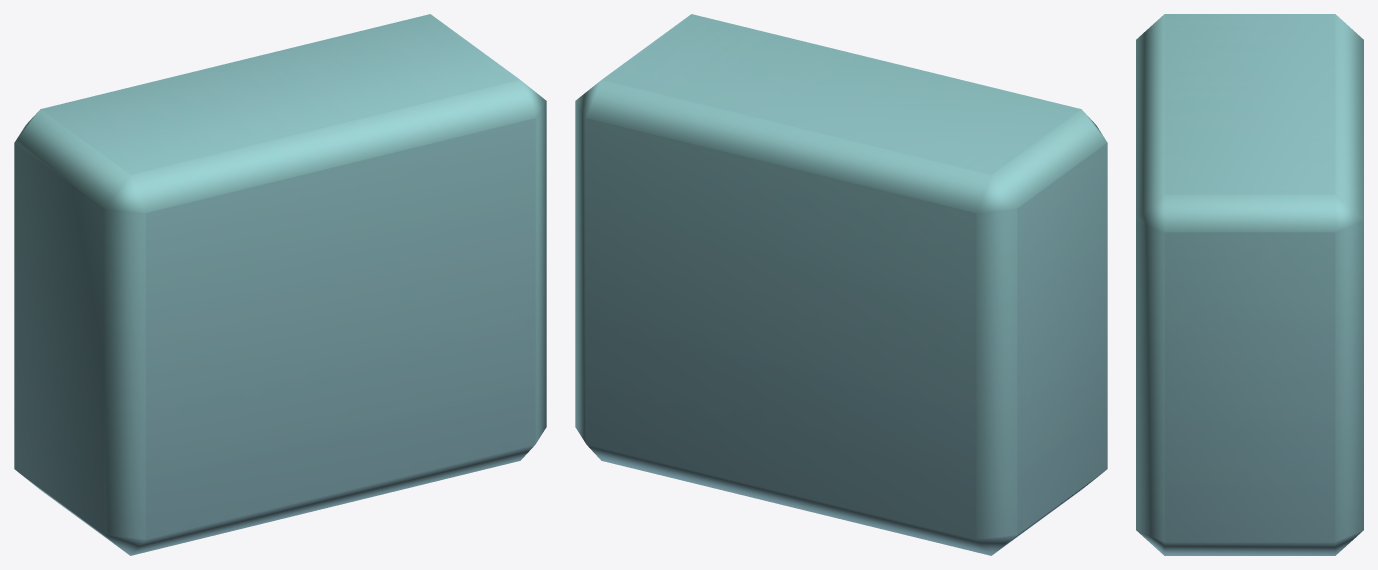
File: cube_02_hue_1.fbx
3 renders of one model, left to right at view 1: azimuth 30°, elevation 25°; view 2: azimuth 150°, elevation 25°; view 3: azimuth 270°, elevation 25°, orthographic. The views are drawn at different scales.
Parts seen in each view (by area): view 1: cube_02_hue_1; view 2: cube_02_hue_1; view 3: cube_02_hue_1.
Part boxes in pixels (box(x1,y1,x2,y2)): cube_02_hue_1: box(14, 14, 546, 555); cube_02_hue_1: box(575, 14, 1107, 555); cube_02_hue_1: box(1136, 14, 1363, 555).
Bounding box in the file's own units: 53.12 × 43.75 × 25.
Materials: 1 (1 with a texture image).
